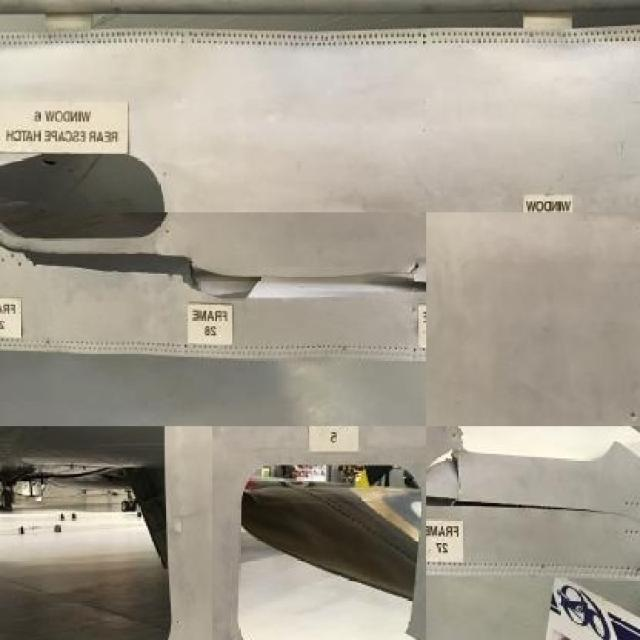crack: (428, 494, 628, 517)
